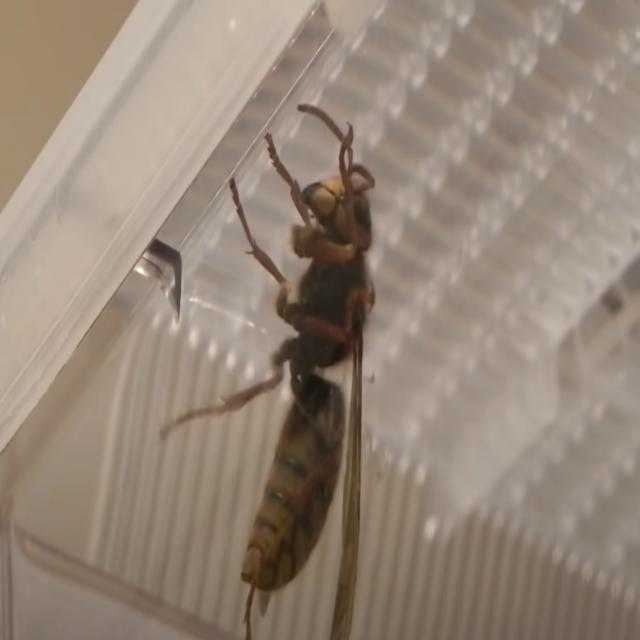Wasp: (219, 90, 379, 636)
